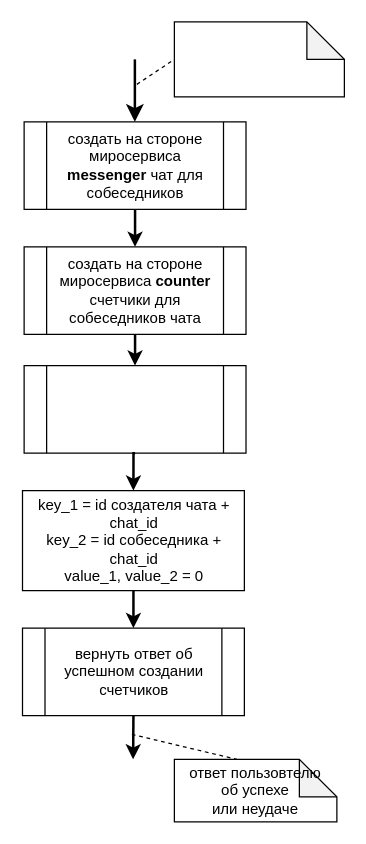
Some shapes in this 366 by 844 pixel diagram are drawn without their labels. The box of each missing label's shape, as (x1, y1, x2, y2) in pixels:
запрос от пользователя на создание чата: (173, 21, 344, 97)
создать в Redis два key: value отображения: (23, 364, 246, 453)
